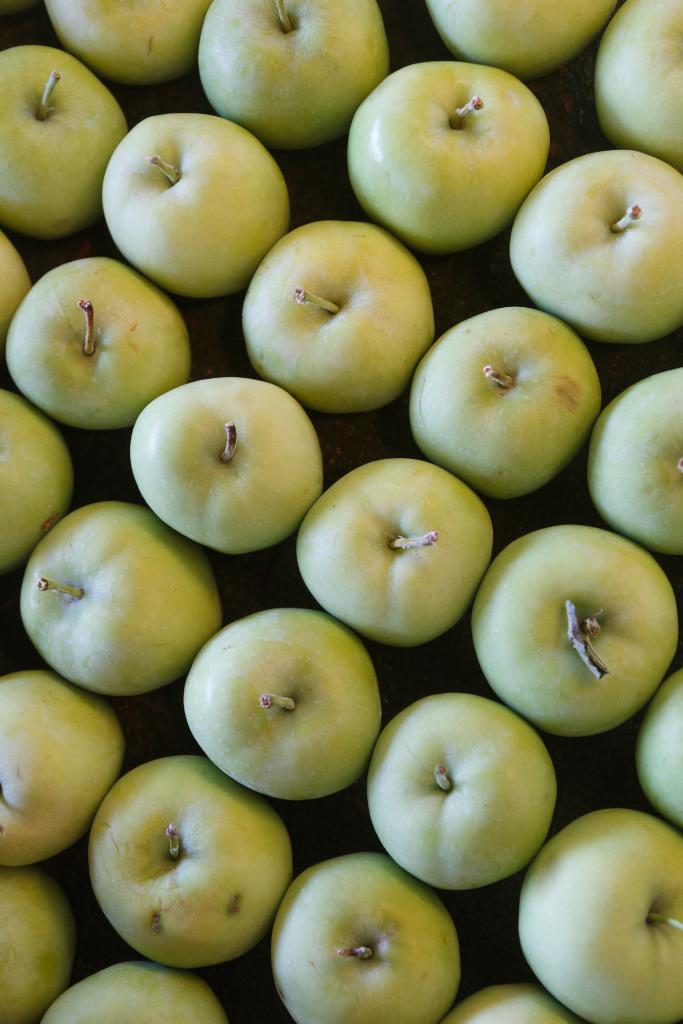Apple: (0, 0, 683, 1023)
